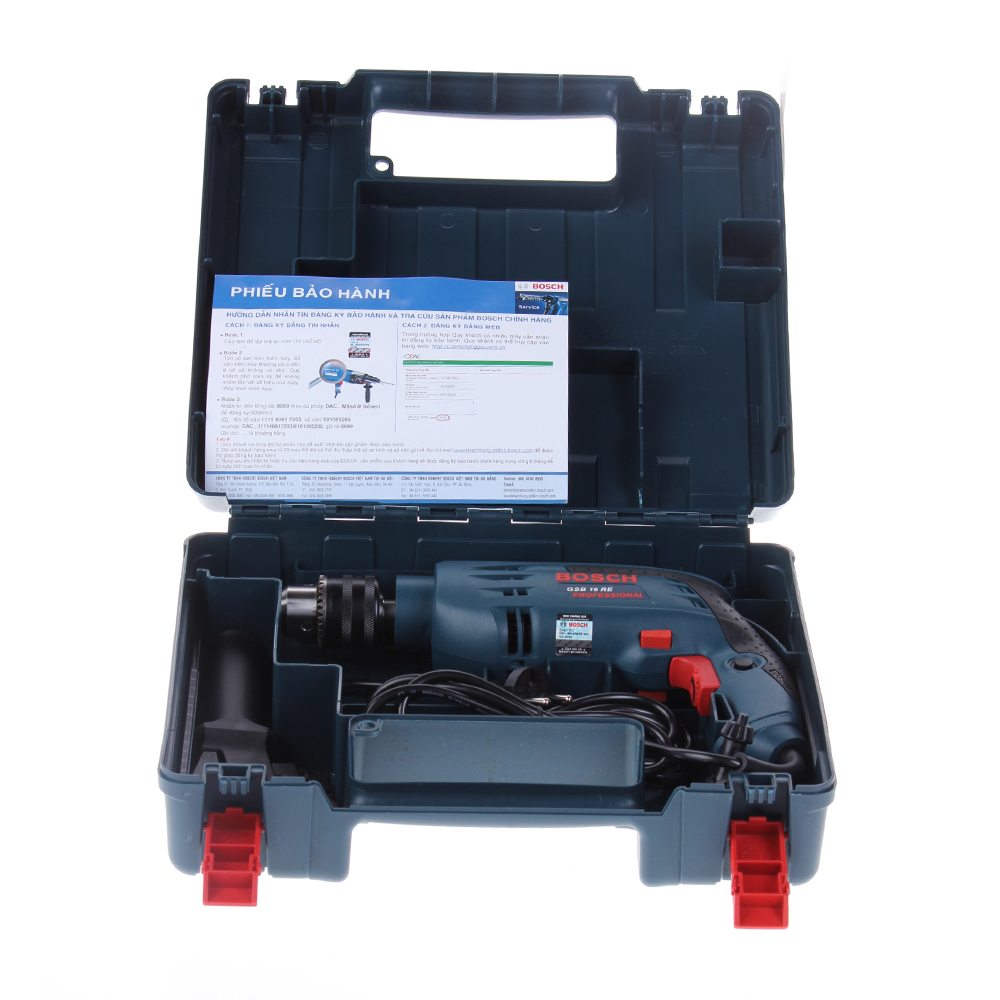Bosch: (549, 567, 639, 588)
